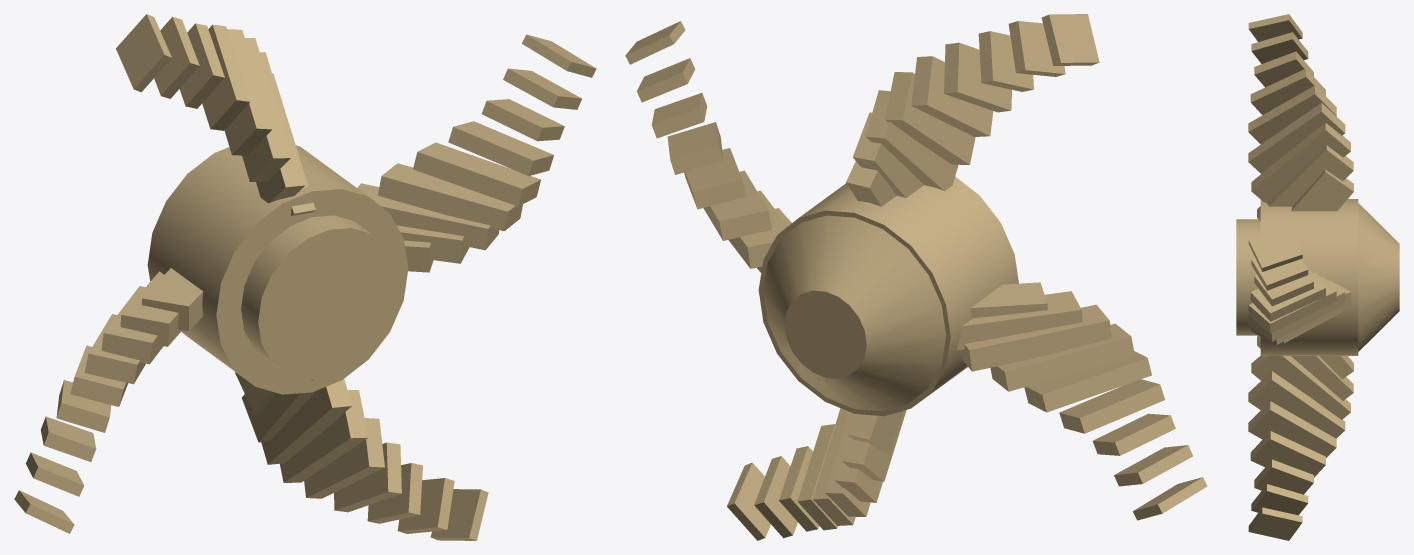
Rendered from naval_propeller.glb.
3 renders of one model, left to right at view 1: azimuth 30°, elevation 25°; view 2: azimuth 150°, elevation 25°; view 3: azimuth 270°, elevation 25°, orthographic. The views are drawn at different scales.
Parts seen in each view (by area): view 1: naval_propeller; view 2: naval_propeller; view 3: naval_propeller.
Part boxes in pixels (left/top/right/bottom): naval_propeller: left=14, top=14, right=596, bottom=540; naval_propeller: left=625, top=14, right=1207, bottom=540; naval_propeller: left=1236, top=14, right=1399, bottom=540.
Bounding box in the file's own units: 0.6242 × 0.6242 × 0.2175.
